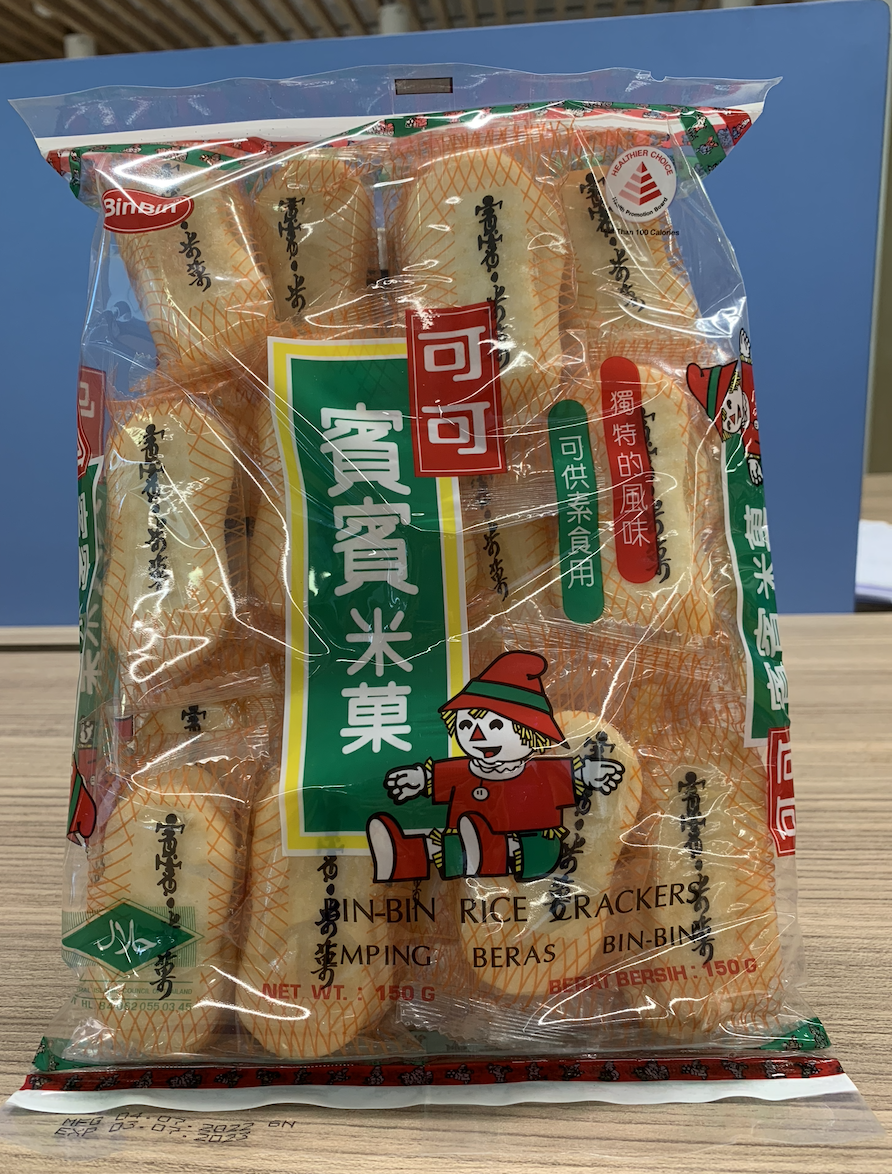crackers_100g-199g: (121, 164, 768, 1059)
